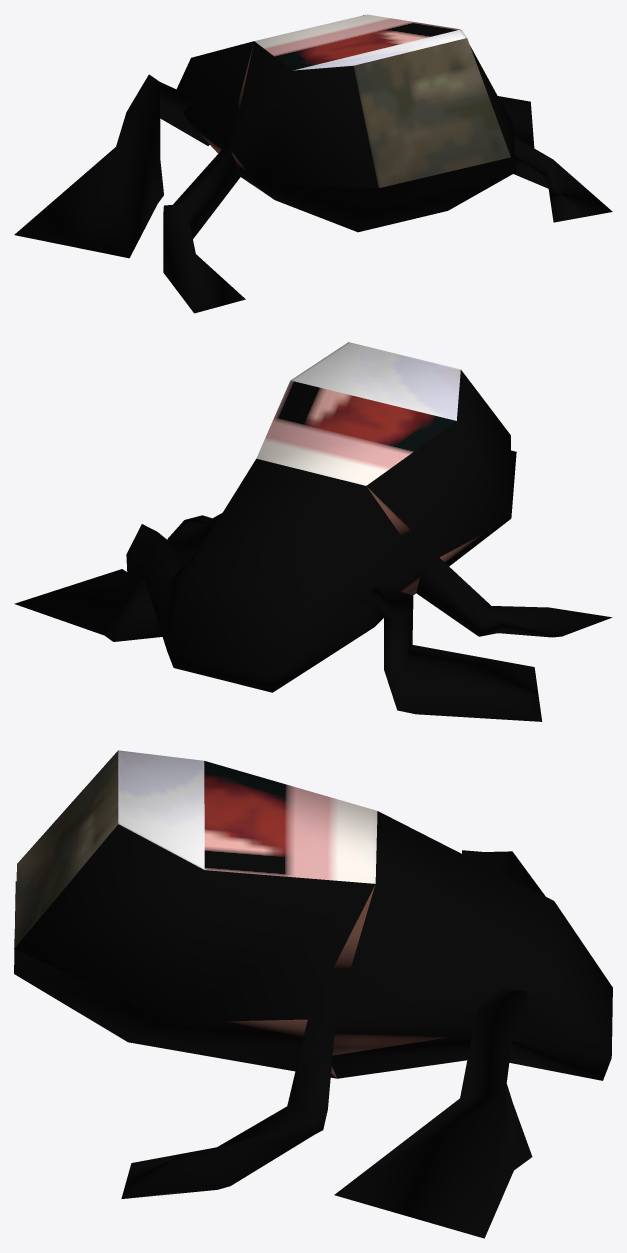
3 views of the same model, one above another, from view 1: azimuth 30°, elevation 25°; view 2: azimuth 150°, elevation 25°; view 3: azimuth 270°, elevation 25° (orthographic). The views are drawn at different scales.
Visible parts, largest first — view 1: T1L4M004_6; view 2: T1L4M004_6; view 3: T1L4M004_6.
Boxes of the visible parts, x1,y1,x2,y2 form: T1L4M004_6: (14, 14, 612, 313); T1L4M004_6: (14, 342, 612, 721); T1L4M004_6: (14, 750, 612, 1238).
Bounding box in the file's own units: 1.26 × 0.4966 × 0.9313.
